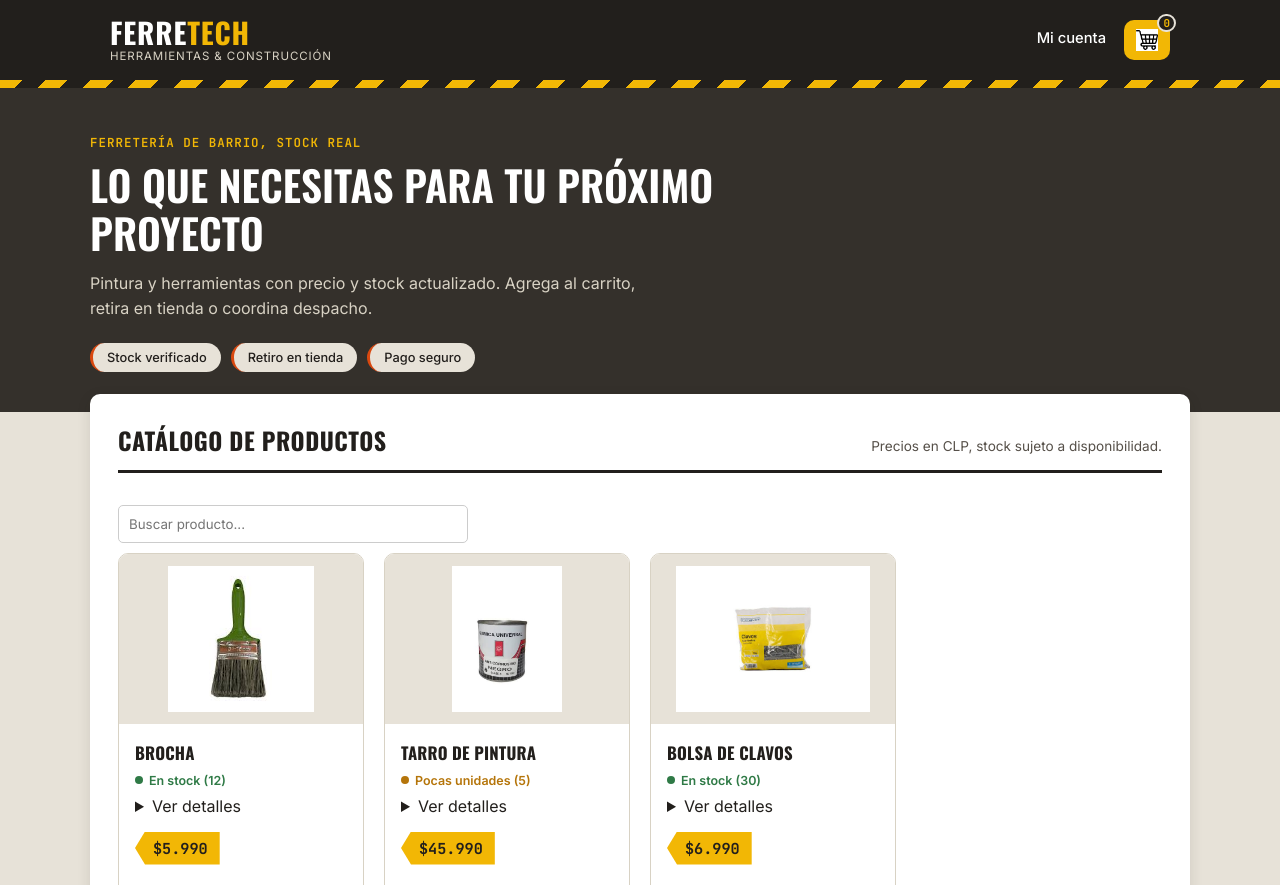
Desde el inicio, "Mi cuenta" lleva al login
interaccion del usuario
Click the link "Mi cuenta" at (1071, 40), box [1037,29,1106,51]
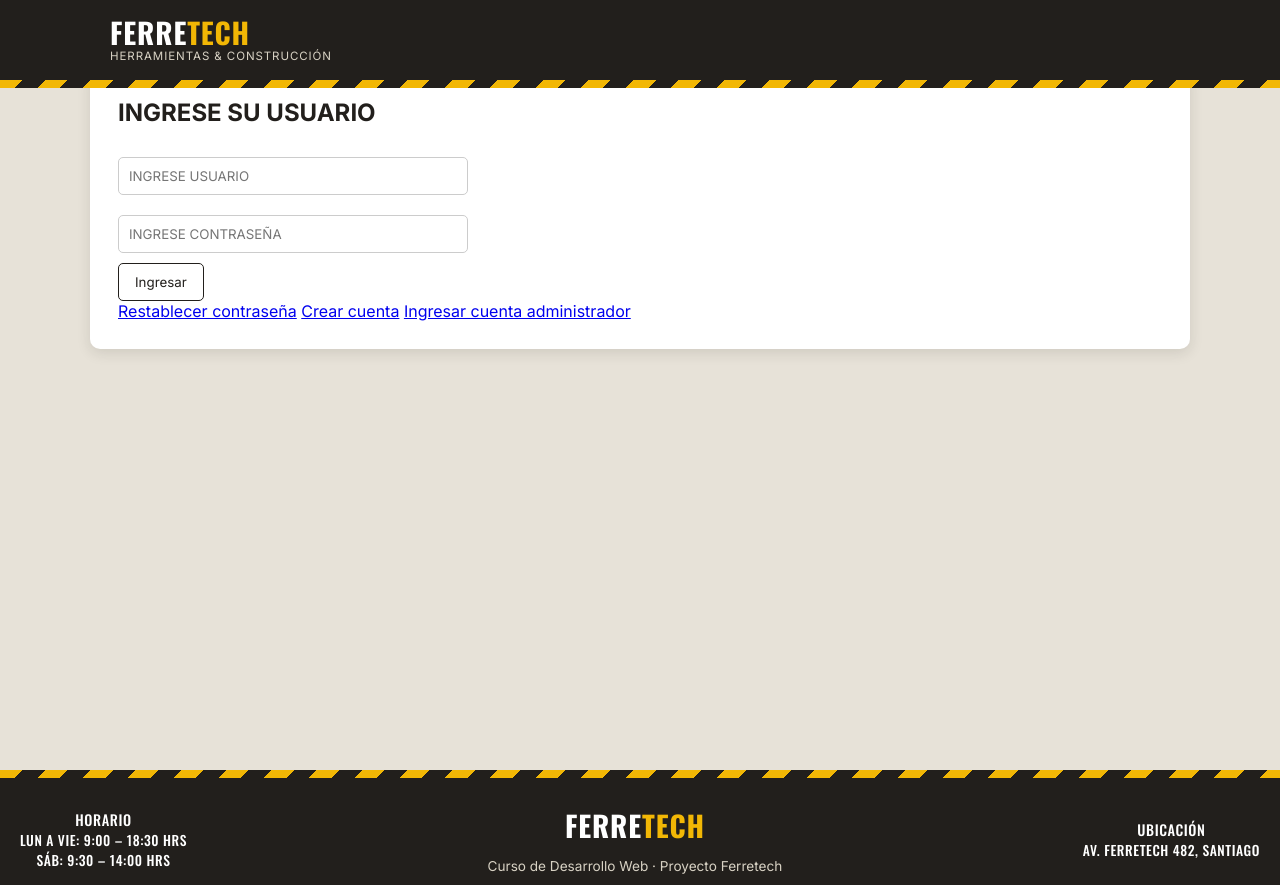
Expected: the heading "INGRESE SU USUARIO" is shown, [118,98,376,127]
